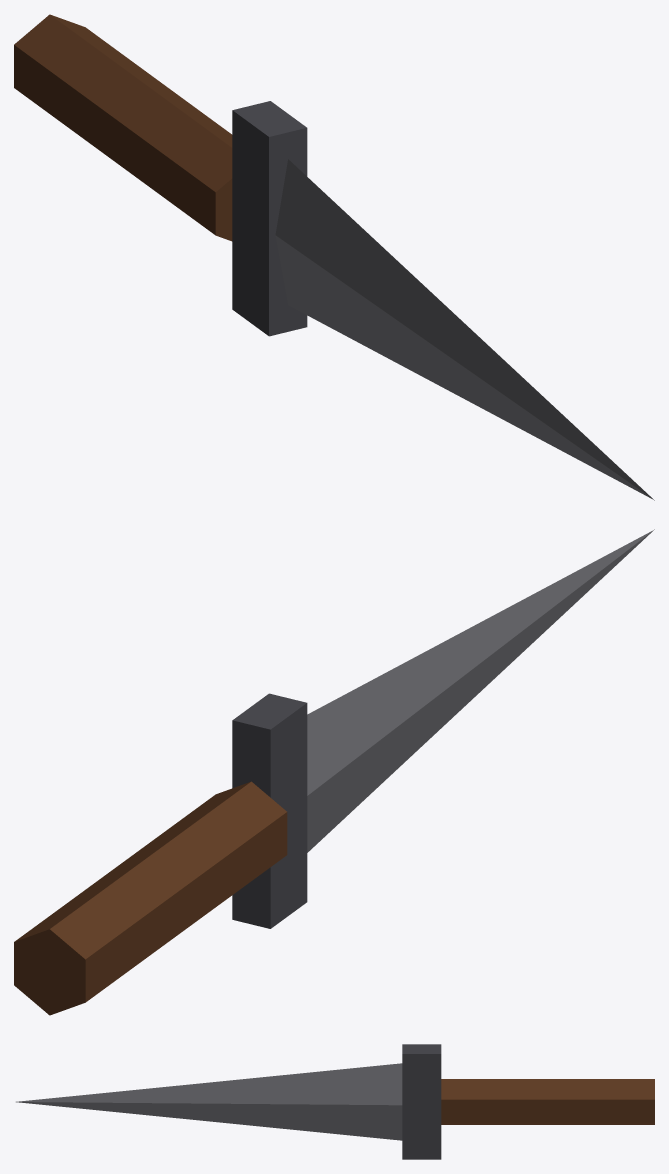
File: prop_bandit_dagger.fbx
3 views of the same model, one above another, from view 1: azimuth 30°, elevation 25°; view 2: azimuth 150°, elevation 25°; view 3: azimuth 270°, elevation 25° (orthographic). The views are drawn at different scales.
Visible parts, largest first — view 1: prop_bandit_dagger; view 2: prop_bandit_dagger; view 3: prop_bandit_dagger.
Boxes of the visible parts, left/top/right/bottom form: prop_bandit_dagger: left=14, top=14, right=654, bottom=500; prop_bandit_dagger: left=14, top=529, right=654, bottom=1015; prop_bandit_dagger: left=16, top=1044, right=654, bottom=1159.
Bounding box in the file's own units: 0.0225 × 0.06 × 0.33.
Materials: 1 (1 with a texture image).
